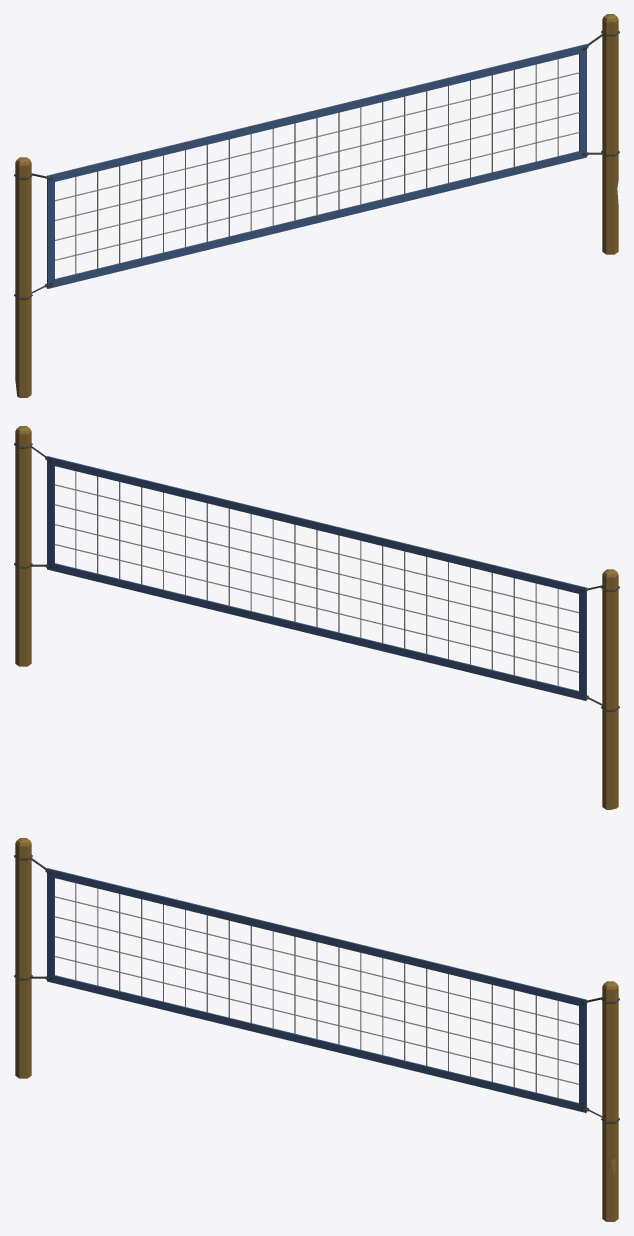
Rendered from SM_Props_City_Beach_VolleyBall_Net.fbx.
3 views of the same model, one above another, from view 1: azimuth 30°, elevation 25°; view 2: azimuth 150°, elevation 25°; view 3: azimuth 330°, elevation 25° (orthographic).
Visible parts, largest first — view 1: SM_Props_City_Beach_VolleyBall_Net; view 2: SM_Props_City_Beach_VolleyBall_Net; view 3: SM_Props_City_Beach_VolleyBall_Net.
Boxes of the visible parts, box(x1,y1,x2,y2) form: SM_Props_City_Beach_VolleyBall_Net: box(14, 14, 619, 397); SM_Props_City_Beach_VolleyBall_Net: box(14, 426, 619, 809); SM_Props_City_Beach_VolleyBall_Net: box(14, 838, 619, 1221).
Bounding box in the file's own units: 724 × 271 × 19.72.
